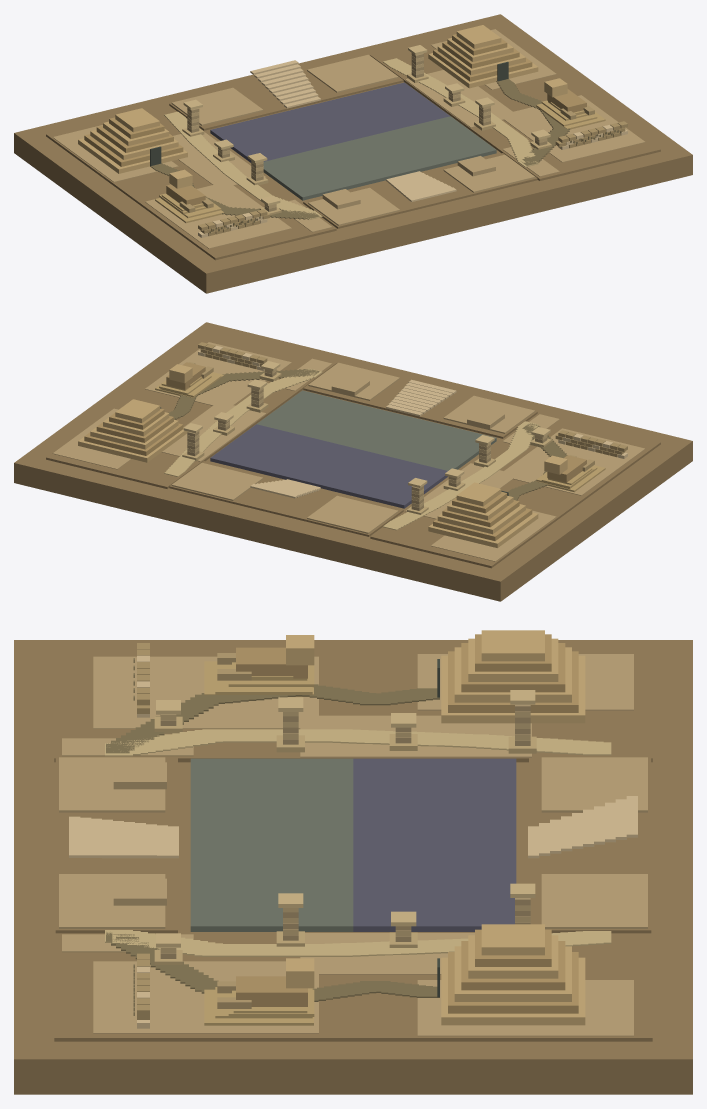
Rendered from preview-relic.glb.
The picture shows the model from 3 angles, top to bottom: view 1: azimuth 30°, elevation 25°; view 2: azimuth 150°, elevation 25°; view 3: azimuth 270°, elevation 25°; orthographic projection. The views are drawn at different scales.
Visible parts, largest first — view 1: Miniature_Plinth, Miniature_Original_Board, Miniature_Approach_Flanking_Terraces, Miniature_Landscape_Terrain_Fields, Miniature_East_Landscape_Terrain_Fields, Miniature_Landscape_Terrain_Base, Miniature_East_Landscape_Terrain_Base, Miniature_Approach_Terrain, Miniature_Landscape_Stepped_Pyramid, Miniature_East_Landscape_Stepped_Pyramid, Miniature_Approach_Entry_Stair, Miniature_Landscape_Processional_Causeway (+15 smaller); view 2: Miniature_Plinth, Miniature_Original_Board, Miniature_Approach_Flanking_Terraces, Miniature_Landscape_Terrain_Base, Miniature_East_Landscape_Terrain_Base, Miniature_East_Landscape_Terrain_Fields, Miniature_Landscape_Terrain_Fields, Miniature_Approach_Terrain, Miniature_Landscape_Stepped_Pyramid, Miniature_East_Landscape_Stepped_Pyramid, Miniature_Approach_Entry_Stair, Miniature_Landscape_Processional_Causeway (+15 smaller); view 3: Miniature_Plinth, Miniature_Original_Board, Miniature_Approach_Flanking_Terraces, Miniature_East_Landscape_Terrain_Fields, Miniature_Landscape_Terrain_Fields, Miniature_East_Landscape_Terrain_Base, Miniature_Landscape_Terrain_Base, Miniature_East_Landscape_Stepped_Pyramid, Miniature_Approach_Terrain, Miniature_Landscape_Stepped_Pyramid, Miniature_Approach_Entry_Stair, Miniature_Landscape_Processional_Causeway (+18 smaller).
Part boxes in pixels (box(x1,y1,x2,y2)): Miniature_Plinth: box(14, 14, 692, 293); Miniature_Original_Board: box(210, 82, 496, 200); Miniature_Approach_Flanking_Terraces: box(171, 54, 535, 225); Miniature_Landscape_Terrain_Fields: box(52, 125, 331, 248); Miniature_East_Landscape_Terrain_Fields: box(405, 29, 644, 176); Miniature_Landscape_Terrain_Base: box(46, 104, 336, 260); Miniature_East_Landscape_Terrain_Base: box(370, 25, 660, 180); Miniature_Approach_Terrain: box(169, 55, 537, 228); Miniature_Landscape_Stepped_Pyramid: box(78, 108, 187, 173); Miniature_East_Landscape_Stepped_Pyramid: box(428, 25, 538, 88); Miniature_Approach_Entry_Stair: box(250, 60, 456, 201); Miniature_Landscape_Processional_Causeway: box(164, 111, 322, 219); Miniature_Plinth: box(14, 322, 692, 601); Miniature_Original_Board: box(210, 390, 496, 508); Miniature_Approach_Flanking_Terraces: box(171, 362, 535, 533); Miniature_Landscape_Terrain_Base: box(370, 412, 660, 568); Miniature_East_Landscape_Terrain_Base: box(46, 333, 336, 488); Miniature_East_Landscape_Terrain_Fields: box(52, 342, 332, 469); Miniature_Landscape_Terrain_Fields: box(405, 414, 644, 561); Miniature_Approach_Terrain: box(169, 363, 537, 536); Miniature_Landscape_Stepped_Pyramid: box(428, 482, 538, 547); Miniature_East_Landscape_Stepped_Pyramid: box(78, 399, 187, 462); Miniature_Approach_Entry_Stair: box(250, 379, 456, 498); Miniature_Landscape_Processional_Causeway: box(383, 421, 538, 530); Miniature_Plinth: box(14, 640, 692, 1094); Miniature_Original_Board: box(190, 758, 516, 931); Miniature_Approach_Flanking_Terraces: box(59, 757, 647, 928); Miniature_East_Landscape_Terrain_Fields: box(62, 933, 633, 1036); Miniature_Landscape_Terrain_Fields: box(62, 654, 633, 757); Miniature_East_Landscape_Terrain_Base: box(54, 933, 652, 1041); Miniature_Landscape_Terrain_Base: box(54, 653, 652, 762); Miniature_East_Landscape_Stepped_Pyramid: box(441, 924, 585, 1025); Miniature_Approach_Terrain: box(55, 758, 651, 933); Miniature_Landscape_Stepped_Pyramid: box(441, 630, 585, 723); Miniature_Approach_Entry_Stair: box(69, 796, 637, 858); Miniature_Landscape_Processional_Causeway: box(105, 729, 611, 756).
Size of the model in its own units: 7.6 by 0.8144 by 5.2.
